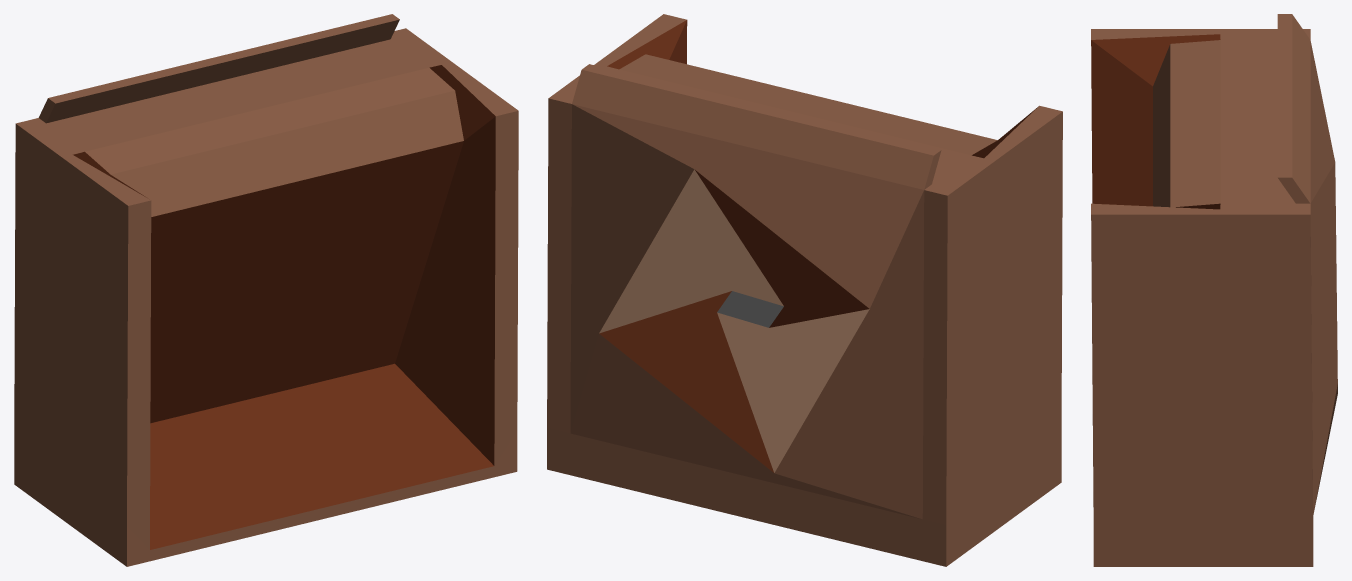
Rendered from graveyardRostrum.fbx.
3 views of the same model, side by side, from view 1: azimuth 30°, elevation 25°; view 2: azimuth 150°, elevation 25°; view 3: azimuth 270°, elevation 25° (orthographic). The views are drawn at different scales.
Parts seen in each view (by area): view 1: Cube; view 2: Cube; view 3: Cube.
Part boxes in pixels (left/top/right/bottom): Cube: left=14, top=14, right=518, bottom=566; Cube: left=547, top=14, right=1062, bottom=566; Cube: left=1091, top=14, right=1337, bottom=566.
Size of the model in its own units: 200 by 190 by 112.
